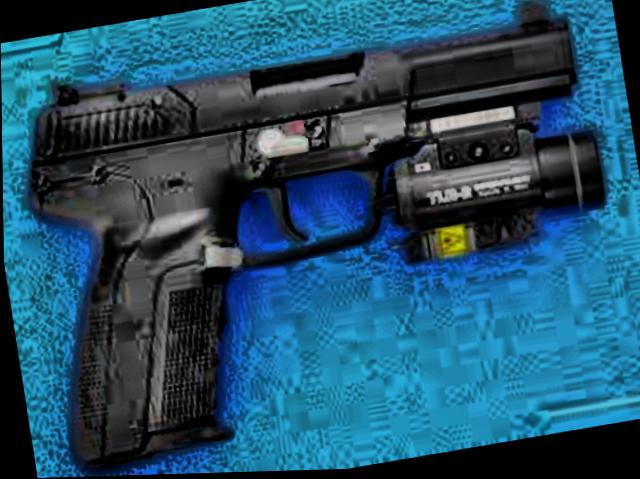pistol: (0, 0, 628, 470)
